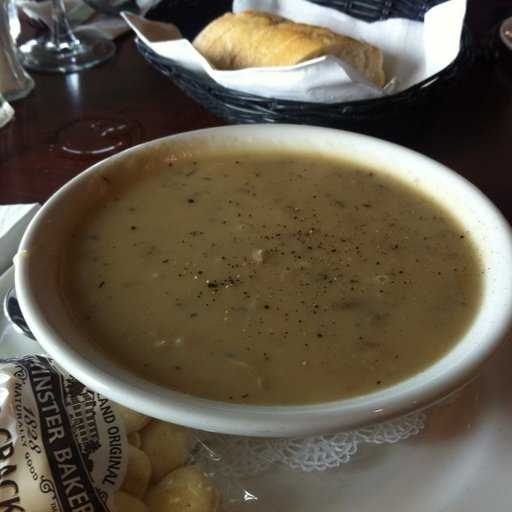soup: (38, 134, 478, 405)
